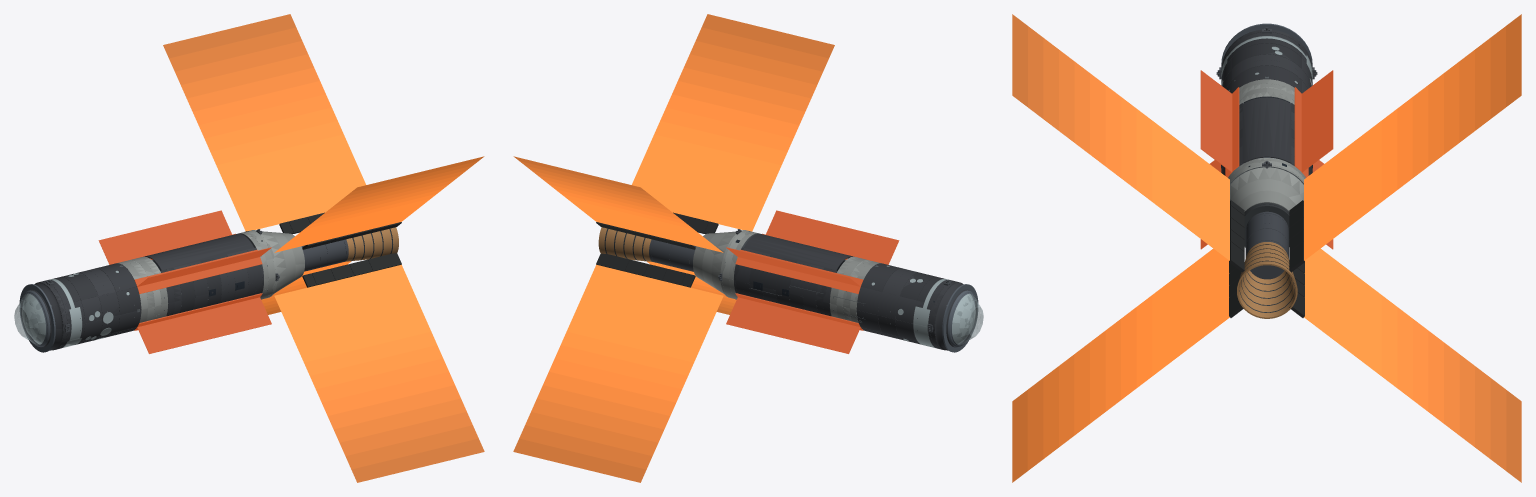
File: wayfarer_exterior_detail_88ce19fc_torch_stowed.glb
3 renders of one model, left to right at view 1: azimuth 30°, elevation 25°; view 2: azimuth 150°, elevation 25°; view 3: azimuth 270°, elevation 25°, orthographic. The views are drawn at different scales.
Visible parts, largest first — view 1: dry:armor, dry:skin_midship, dry:hotfin_220:pleat_13, dry:hotfin_40:pleat_04, dry:hotfin_220:pleat_09, dry:hotfin_40:pleat_02, dry:hotfin_220:pleat_04, dry:hotfin_220:pleat_07, dry:hotfin_220:pleat_11, dry:hotfin_40:pleat_03, dry:hotfin_40:pleat_05, dry:hotfin_40:pleat_08 (+48 smaller); view 2: dry:armor, dry:skin_midship, dry:hotfin_320:pleat_13, dry:hotfin_140:pleat_04, dry:hotfin_320:pleat_09, dry:hotfin_140:pleat_02, dry:hotfin_320:pleat_04, dry:hotfin_320:pleat_07, dry:hotfin_320:pleat_11, dry:hotfin_140:pleat_03, dry:hotfin_140:pleat_05, dry:hotfin_140:pleat_08 (+48 smaller); view 3: dry:armor, dry:nozzle, dry:thrust_cone, dry:reactor, dry:door_port, dry:door_starboard, dry:hotfin_220:pleat_03, dry:hotfin_320:pleat_03, dry:hotfin_40:pleat_05, dry:hotfin_40:pleat_07, dry:hotfin_140:pleat_05, dry:hotfin_140:pleat_07 (+63 smaller).
Boxes of the visible parts, x1,y1,x2,y2 form: dry:armor: (21, 263, 141, 350); dry:skin_midship: (160, 247, 263, 316); dry:hotfin_220:pleat_13: (351, 438, 484, 482); dry:hotfin_40:pleat_04: (216, 134, 349, 178); dry:hotfin_220:pleat_09: (327, 385, 460, 429); dry:hotfin_40:pleat_02: (228, 161, 361, 205); dry:hotfin_220:pleat_04: (298, 318, 431, 362); dry:hotfin_220:pleat_07: (316, 358, 448, 402); dry:hotfin_220:pleat_11: (339, 412, 472, 455); dry:hotfin_40:pleat_03: (222, 147, 355, 191); dry:hotfin_40:pleat_05: (210, 121, 343, 165); dry:hotfin_40:pleat_08: (193, 81, 325, 125); dry:armor: (856, 263, 976, 350); dry:skin_midship: (734, 247, 837, 316); dry:hotfin_320:pleat_13: (513, 438, 646, 482); dry:hotfin_140:pleat_04: (648, 134, 781, 178); dry:hotfin_320:pleat_09: (537, 385, 670, 429); dry:hotfin_140:pleat_02: (636, 161, 769, 205); dry:hotfin_320:pleat_04: (566, 318, 699, 362); dry:hotfin_320:pleat_07: (549, 358, 681, 402); dry:hotfin_320:pleat_11: (525, 412, 658, 455); dry:hotfin_140:pleat_03: (642, 147, 775, 191); dry:hotfin_140:pleat_05: (654, 121, 787, 165); dry:hotfin_140:pleat_08: (672, 81, 804, 125); dry:armor: (1221, 29, 1312, 93); dry:nozzle: (1237, 242, 1297, 318); dry:thrust_cone: (1230, 167, 1303, 247); dry:reactor: (1245, 211, 1288, 279); dry:door_port: (1242, 97, 1266, 163); dry:door_starboard: (1267, 97, 1291, 163); dry:hotfin_220:pleat_03: (1167, 271, 1183, 364); dry:hotfin_320:pleat_03: (1350, 271, 1366, 364); dry:hotfin_40:pleat_05: (1381, 109, 1397, 201); dry:hotfin_40:pleat_07: (1412, 85, 1428, 177); dry:hotfin_140:pleat_05: (1136, 109, 1152, 201); dry:hotfin_140:pleat_07: (1105, 85, 1121, 177).
Size of the model in its own units: 54.5 by 42.11 by 50.18.
